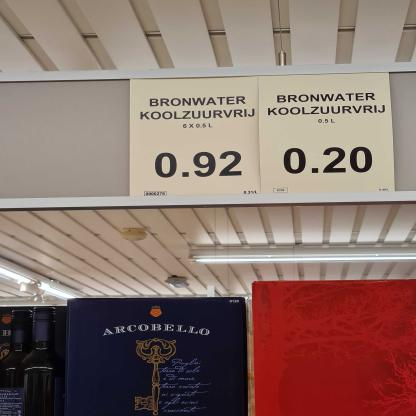prtg: (259, 73, 397, 196), (130, 76, 261, 198)
